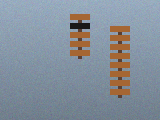defect: (70, 22, 90, 30)
insulator: (108, 24, 132, 99), (68, 12, 92, 60)
